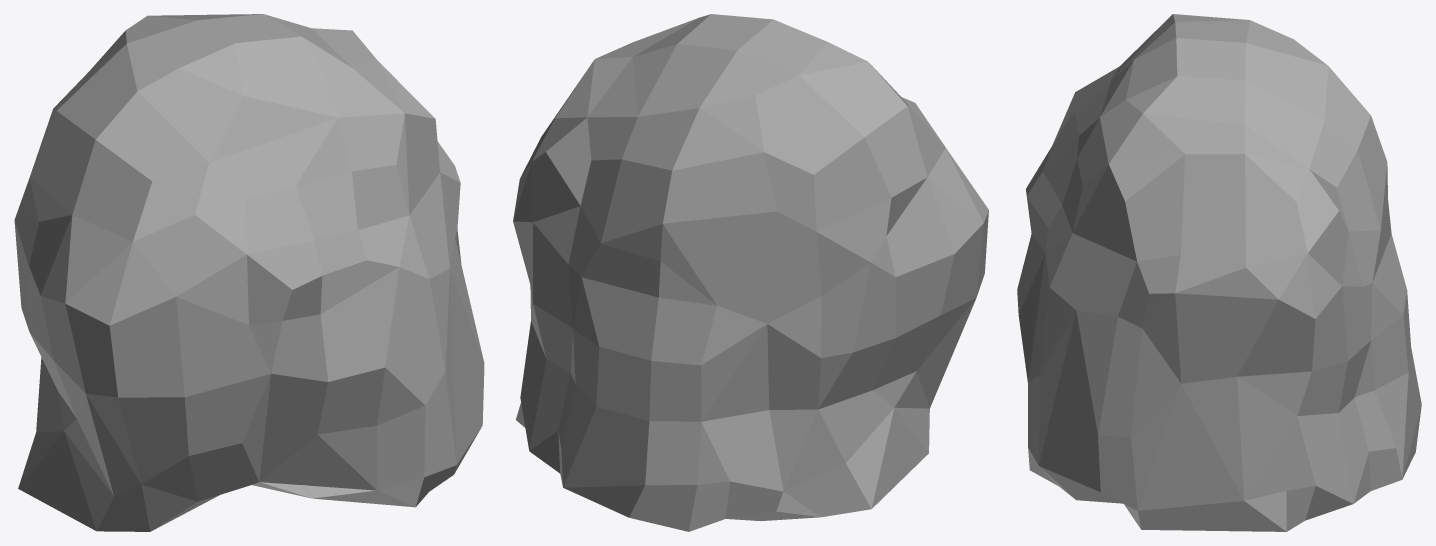
Rendered from Stone_3.fbx.
3 views of the same model, side by side, from view 1: azimuth 30°, elevation 25°; view 2: azimuth 150°, elevation 25°; view 3: azimuth 270°, elevation 25° (orthographic). The views are drawn at different scales.
Parts seen in each view (by area): view 1: Stone_3; view 2: Stone_3; view 3: Stone_3.
Boxes of the visible parts, x1=… form: Stone_3: x1=14, y1=14, x2=484, y2=531; Stone_3: x1=513, y1=14, x2=988, y2=531; Stone_3: x1=1017, y1=14, x2=1421, y2=531.
Size of the model in its own units: 2.68 by 2.88 by 2.47.
